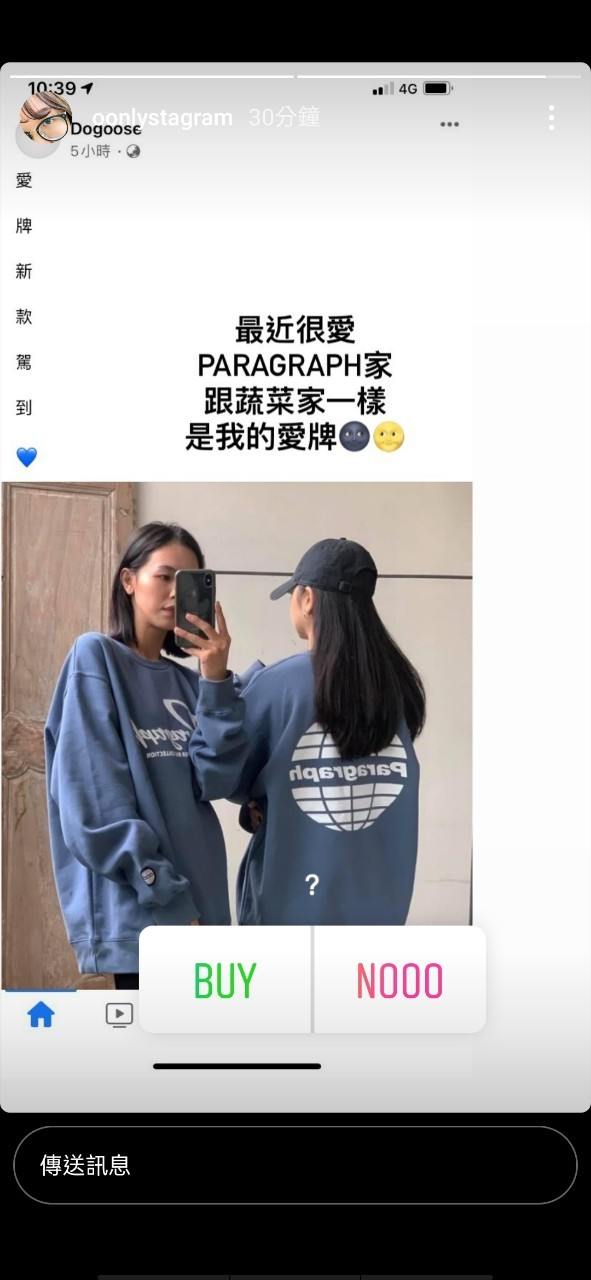people: (253, 525, 424, 947), (79, 525, 234, 978)
